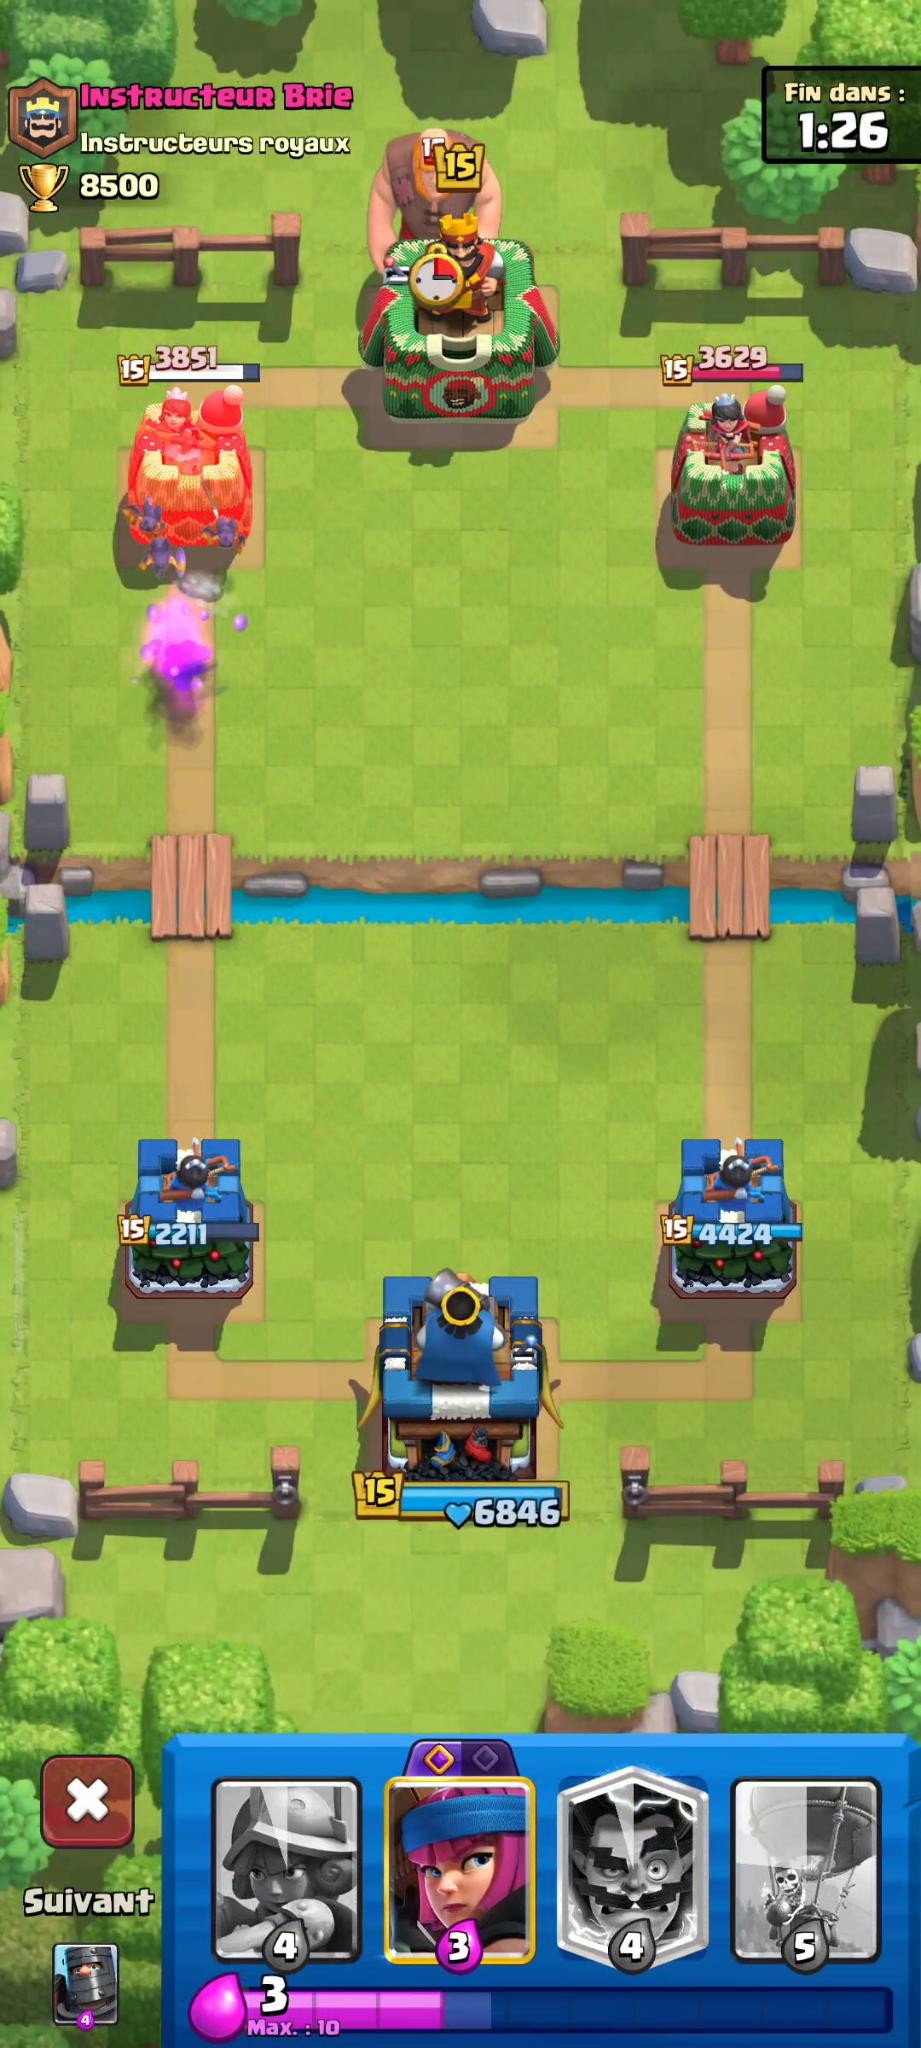bat: (111, 495, 180, 543), (199, 504, 259, 551), (137, 538, 192, 588)
geant: (366, 107, 516, 272)
